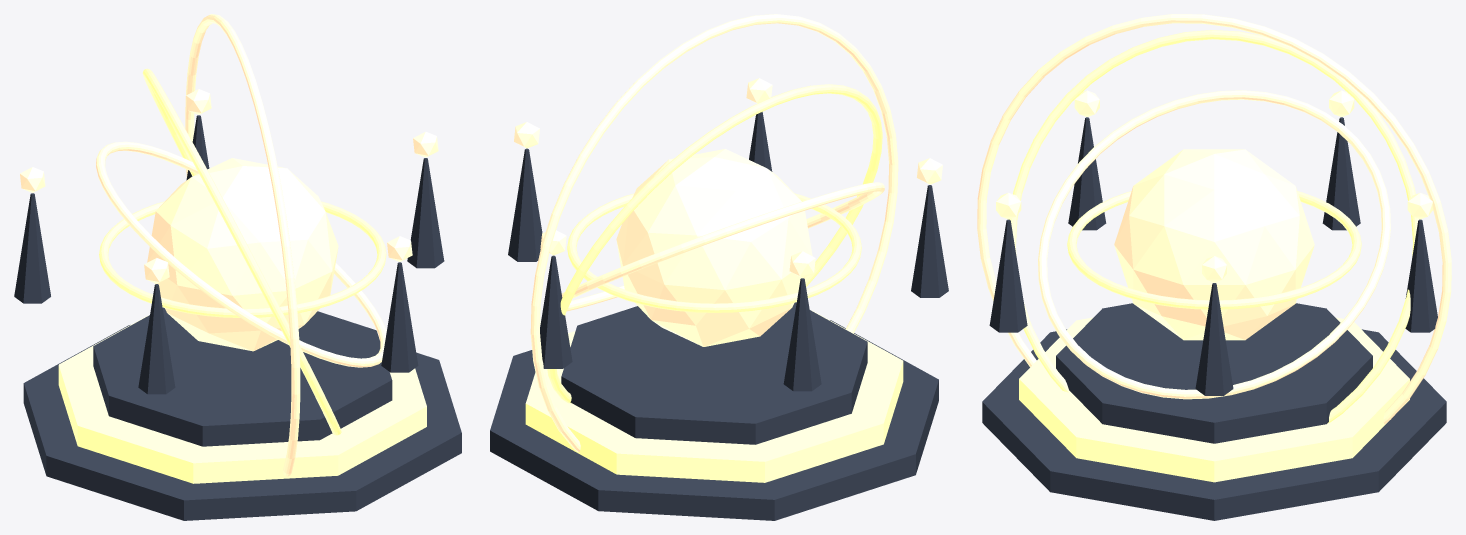
The model's file is gpu-blender-v8.glb.
The picture shows the model from 3 angles, left to right: view 1: azimuth 30°, elevation 25°; view 2: azimuth 150°, elevation 25°; view 3: azimuth 270°, elevation 25°; orthographic projection. The views are drawn at different scales.
Parts seen in each view (by area): view 1: Cylinder.002, SovereignCore_azoth-local-agent, Cylinder, Cylinder.001, Torus.003, Torus.001, Torus.002, Torus, Cone.003, Cone.004, Cone.002, Cone (+5 smaller); view 2: Cylinder.002, SovereignCore_azoth-local-agent, Cylinder, Cylinder.001, Torus.003, Torus.002, Torus, Torus.001, Cone.002, Cone.003, Cone, Cone.001 (+4 smaller); view 3: SovereignCore_azoth-local-agent, Cylinder.002, Cylinder, Cylinder.001, Torus.003, Torus.001, Torus.002, Torus, Cone.004, Cone, Cone.001, Cone.002 (+2 smaller).
Part boxes in pixels (x1,y1,x2,y2): Cylinder.002: [93, 307, 392, 446]; SovereignCore_azoth-local-agent: [147, 158, 338, 351]; Cylinder: [23, 325, 461, 520]; Cylinder.001: [58, 315, 426, 483]; Torus.003: [185, 14, 300, 476]; Torus.001: [96, 141, 386, 367]; Torus.002: [142, 68, 341, 435]; Torus: [99, 201, 386, 317]; Cone.003: [138, 284, 175, 394]; Cone.004: [381, 262, 418, 372]; Cone.002: [14, 193, 50, 303]; Cone: [407, 158, 444, 268]; Cylinder.002: [561, 302, 867, 444]; SovereignCore_azoth-local-agent: [616, 149, 812, 346]; Cylinder: [490, 320, 938, 520]; Cylinder.001: [525, 310, 903, 482]; Torus.003: [530, 14, 898, 452]; Torus.002: [547, 84, 882, 403]; Torus: [567, 193, 861, 312]; Torus.001: [561, 182, 884, 311]; Cone.002: [783, 278, 821, 391]; Cone.003: [911, 185, 948, 297]; Cone: [508, 148, 542, 261]; Cone.001: [540, 255, 572, 368]; SovereignCore_azoth-local-agent: [1114, 149, 1314, 340]; Cylinder.002: [1056, 303, 1372, 443]; Cylinder: [982, 329, 1446, 520]; Cylinder.001: [1019, 317, 1409, 482]; Torus.003: [977, 14, 1451, 424]; Torus.001: [1038, 90, 1390, 399]; Torus.002: [1008, 30, 1420, 422]; Torus: [1067, 191, 1361, 309]; Cone.004: [989, 219, 1027, 332]; Cone: [1195, 283, 1233, 395]; Cone.001: [1405, 219, 1437, 332]; Cone.002: [1322, 117, 1360, 230].
Bounding box in the file's own units: 4.41 × 4.7 × 4.49.
